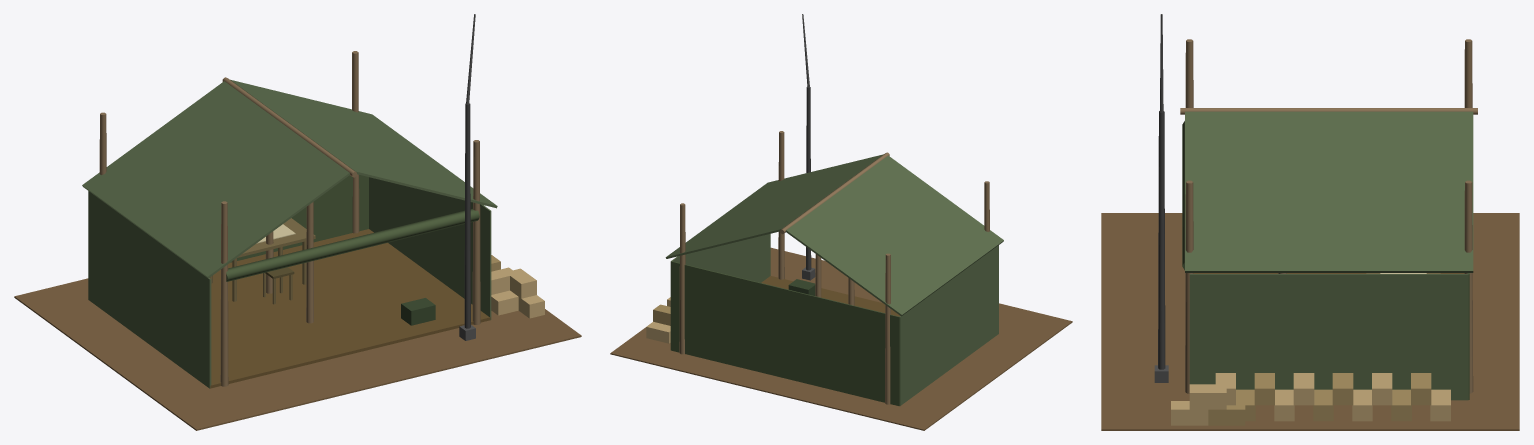
Rendered from command-tent.glb.
3 views of the same model, side by side, from view 1: azimuth 30°, elevation 25°; view 2: azimuth 150°, elevation 25°; view 3: azimuth 270°, elevation 25° (orthographic). The views are drawn at different scales.
Parts seen in each view (by area): view 1: Mesh_LeftRoofMesh, Mesh_DirtPatch, Mesh_Floor, Mesh_LeftWall, Mesh_RightRoofMesh, Mesh_RightWall, Mesh_RolledFlap, Mesh_RearWall, Mesh_FrontPoleLeft, Mesh_AntennaBase, Mesh_FrontPoleRight, Mesh_CenterPole2 (+6 smaller); view 2: Mesh_RearWall, Mesh_LeftRoofMesh, Mesh_DirtPatch, Mesh_LeftWall, Mesh_RightRoofMesh, Mesh_RightWall, Mesh_RearPoleRight, Mesh_Floor, Mesh_RearPoleLeft, Mesh_FrontPoleRight, Mesh_RidgePole, Mesh_AntennaBase (+1 smaller); view 3: Mesh_RightRoofMesh, Mesh_DirtPatch, Mesh_RightWall, Mesh_AntennaBase, Mesh_FrontPoleRight, Mesh_RidgePole, Mesh_RearPoleRight, Mesh_SandbagCorner3, Mesh_SandbagCorner1, Mesh_SandbagCorner2, Mesh_SandbagTop2, Mesh_SandbagTop3 (+13 smaller).
Part boxes in pixels (x1,y1,x2,y2): Mesh_LeftRoofMesh: [82, 81, 349, 278]; Mesh_DirtPatch: [14, 278, 581, 430]; Mesh_Floor: [210, 229, 490, 388]; Mesh_LeftWall: [88, 191, 211, 388]; Mesh_RightRoofMesh: [230, 79, 497, 208]; Mesh_RightWall: [369, 177, 491, 319]; Mesh_RolledFlap: [226, 208, 479, 281]; Mesh_RearWall: [230, 175, 368, 262]; Mesh_FrontPoleLeft: [220, 201, 228, 386]; Mesh_AntennaBase: [464, 103, 470, 328]; Mesh_FrontPoleRight: [472, 140, 480, 324]; Mesh_CenterPole2: [306, 202, 313, 323]; Mesh_RearWall: [671, 261, 899, 406]; Mesh_LeftRoofMesh: [785, 155, 1003, 316]; Mesh_DirtPatch: [610, 247, 1072, 430]; Mesh_LeftWall: [899, 245, 998, 405]; Mesh_RightRoofMesh: [665, 154, 883, 258]; Mesh_RightWall: [670, 234, 770, 349]; Mesh_RearPoleRight: [679, 203, 685, 354]; Mesh_Floor: [761, 276, 899, 316]; Mesh_RearPoleLeft: [885, 253, 890, 404]; Mesh_FrontPoleRight: [778, 131, 784, 279]; Mesh_RidgePole: [780, 152, 889, 234]; Mesh_AntennaBase: [806, 87, 811, 270]; Mesh_RightRoofMesh: [1185, 111, 1473, 272]; Mesh_DirtPatch: [1101, 213, 1519, 430]; Mesh_RightWall: [1189, 274, 1468, 400]; Mesh_AntennaBase: [1158, 111, 1165, 369]; Mesh_FrontPoleRight: [1185, 180, 1193, 393]; Mesh_RidgePole: [1180, 108, 1477, 114]; Mesh_RearPoleRight: [1464, 180, 1473, 393]; Mesh_SandbagCorner3: [1189, 384, 1226, 409]; Mesh_SandbagCorner1: [1171, 401, 1208, 425]; Mesh_SandbagCorner2: [1208, 401, 1245, 425]; Mesh_SandbagTop2: [1332, 373, 1353, 405]; Mesh_SandbagTop3: [1293, 373, 1314, 405].
Size of the model in its own units: 5.5 by 4.41 by 4.5.
